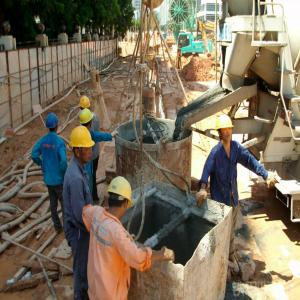blue: (47, 113, 60, 133)
yellow: (107, 176, 133, 217), (72, 126, 95, 163), (217, 115, 234, 143), (80, 110, 94, 129), (80, 97, 91, 111)
